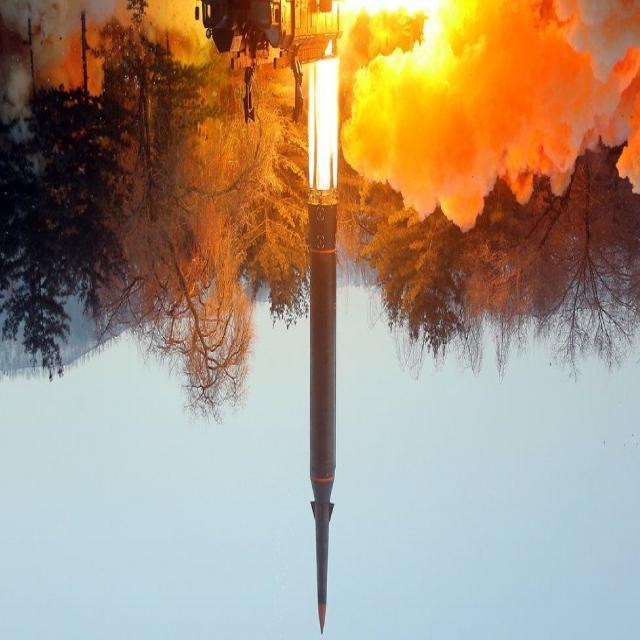Missile: (303, 187, 347, 640)
